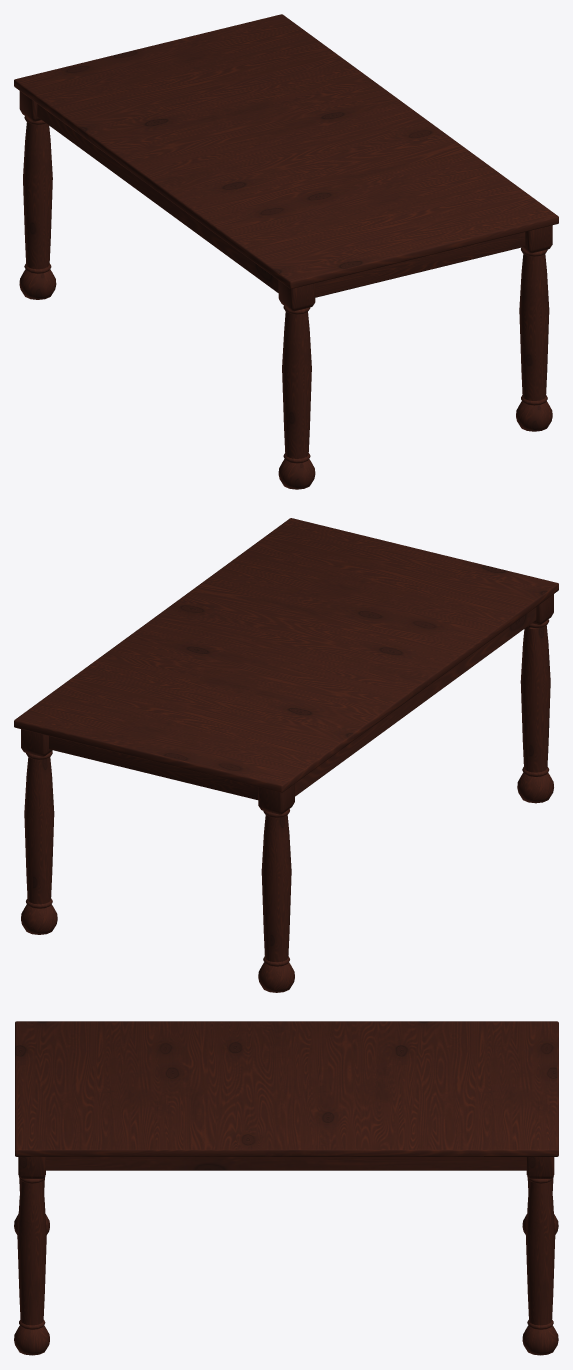
Rendered from Tables_Kitchen_Tables_3.fbx.
3 views of the same model, one above another, from view 1: azimuth 30°, elevation 25°; view 2: azimuth 150°, elevation 25°; view 3: azimuth 270°, elevation 25° (orthographic).
Visible parts, largest first — view 1: Cube.031; view 2: Cube.031; view 3: Cube.031.
Boxes of the visible parts, <box> form: Cube.031: <box>14,14,558,489</box>; Cube.031: <box>14,518,558,992</box>; Cube.031: <box>14,1021,558,1355</box>.
Bounding box in the file's own units: 130 × 97.43 × 232.
